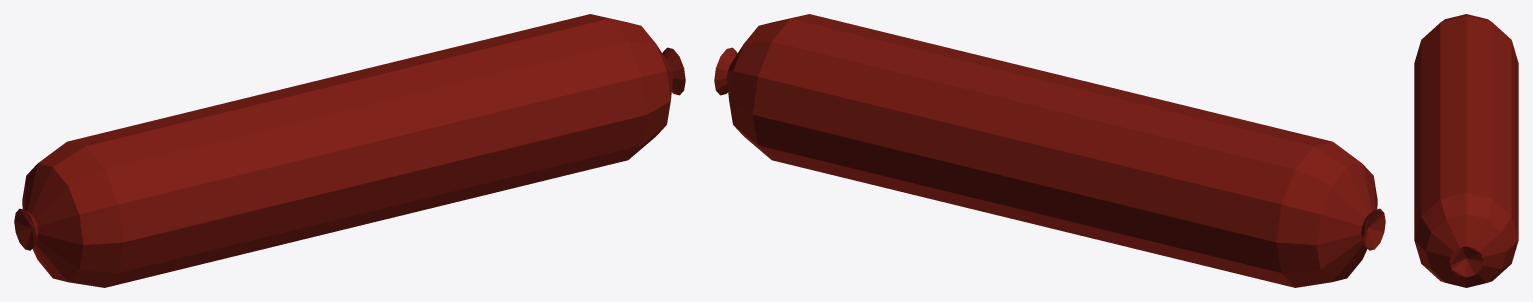
Rendered from salami.fbx.
3 renders of one model, left to right at view 1: azimuth 30°, elevation 25°; view 2: azimuth 150°, elevation 25°; view 3: azimuth 270°, elevation 25°, orthographic. The views are drawn at different scales.
Visible parts, largest first — view 1: Cylinder005; view 2: Cylinder005; view 3: Cylinder005.
Part boxes in pixels (x1,y1,x2,y2): Cylinder005: (14, 14, 685, 287); Cylinder005: (714, 14, 1385, 287); Cylinder005: (1414, 14, 1518, 287).
Size of the model in its own units: 49.54 by 10 by 10.
